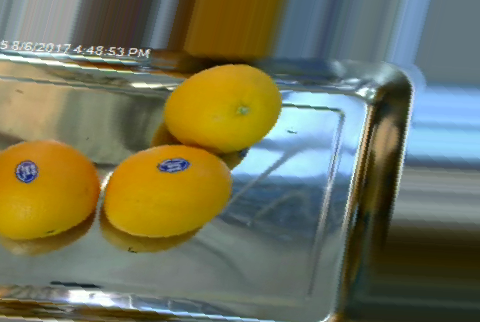Orange: (103, 144, 232, 238), (164, 63, 281, 153), (1, 138, 99, 239)
